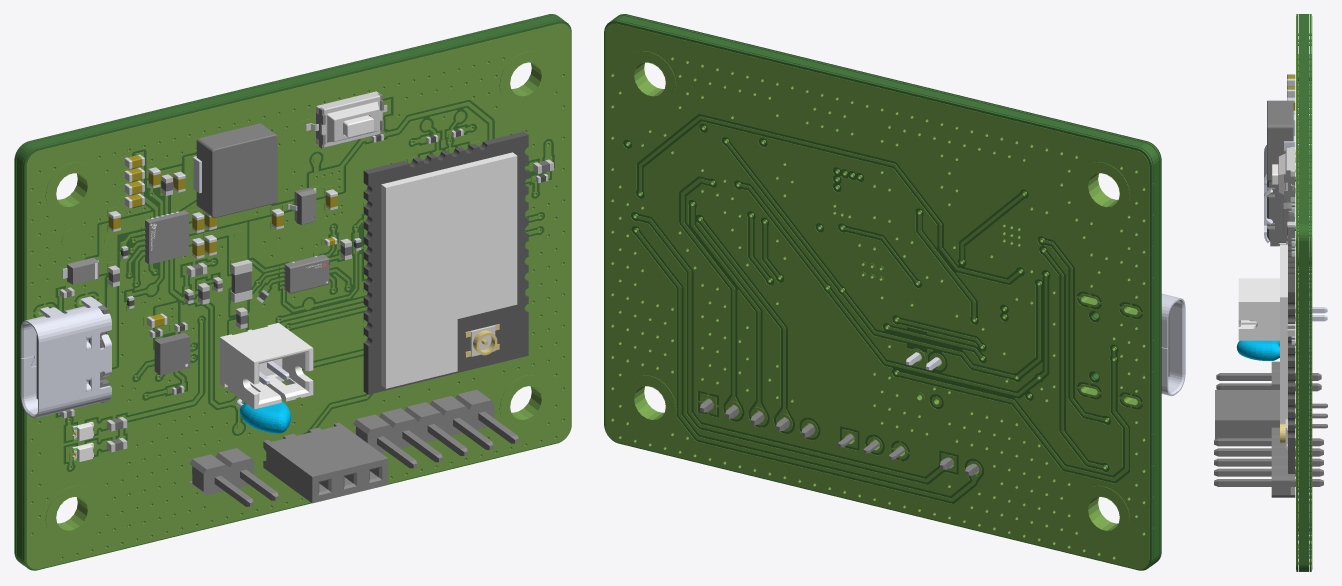
File: wireless-songbird-pir-sensor.glb
3 views of the same model, side by side, from view 1: azimuth 30°, elevation 25°; view 2: azimuth 150°, elevation 25°; view 3: azimuth 270°, elevation 25° (orthographic). The views are drawn at different scales.
Visible parts, largest first — view 1: copper, core, mat_31, mat_43, mat_30, mat_25, mat_24, default, mat_38, mat_22, mat_26, mat_36 (+5 smaller); view 2: copper, core, mat_25, mat_43, solder_t; view 3: core, mat_43, default, copper, mat_24, mat_30, mat_31, mat_44, mat_25, mat_26, mat_22, mat_27 (+1 smaller).
Boxes of the visible parts, box(x1,y1,x2,y2) form: copper: box(22, 23, 570, 569); core: box(15, 14, 571, 570); mat_31: box(381, 152, 517, 388); mat_43: box(189, 389, 518, 506); mat_30: box(363, 131, 528, 394); mat_25: box(20, 156, 289, 418); mat_24: box(36, 123, 277, 402); default: box(72, 115, 373, 462); mat_38: box(145, 210, 329, 293); mat_22: box(62, 128, 548, 394); mat_26: box(306, 91, 387, 147); mat_36: box(60, 159, 553, 452); copper: box(605, 23, 1153, 569); core: box(604, 14, 1160, 570); mat_25: box(906, 293, 1185, 396); mat_43: box(700, 399, 978, 475); solder_t: box(618, 14, 1161, 560); core: box(1296, 14, 1311, 571); mat_43: box(1214, 361, 1327, 497); default: box(1238, 164, 1279, 340); copper: box(1296, 16, 1312, 569); mat_24: box(1267, 100, 1295, 246); mat_30: box(1288, 228, 1295, 473); mat_31: box(1280, 244, 1287, 423); mat_44: box(1236, 340, 1279, 360); mat_25: box(1249, 114, 1327, 352); mat_26: box(1278, 147, 1295, 202); mat_22: box(1287, 74, 1295, 344); mat_27: box(1284, 146, 1295, 202).
Size of the model in its own units: 5.55 by 4.05 by 1.2.
